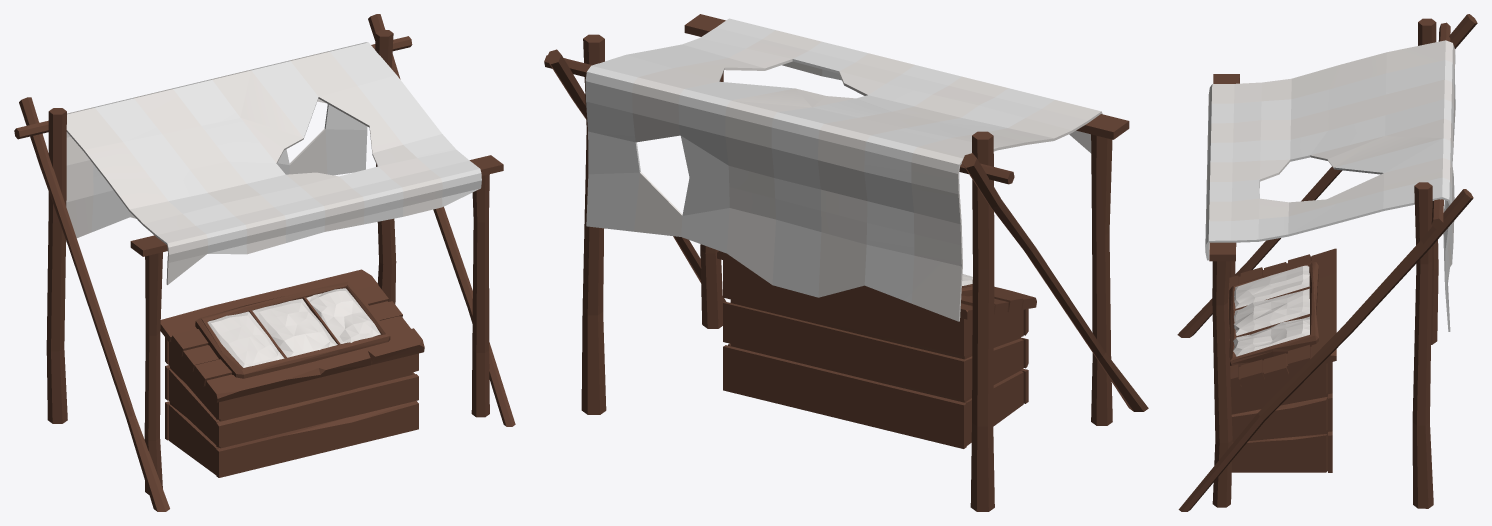
The model's file is Stall_2.fbx.
3 renders of one model, left to right at view 1: azimuth 30°, elevation 25°; view 2: azimuth 150°, elevation 25°; view 3: azimuth 270°, elevation 25°, orthographic. The views are drawn at different scales.
Parts seen in each view (by area): view 1: Stall_2; view 2: Stall_2; view 3: Stall_2.
Boxes of the visible parts, x1=… form: Stall_2: x1=14, y1=14, x2=515, y2=511; Stall_2: x1=544, y1=14, x2=1148, y2=511; Stall_2: x1=1177, y1=14, x2=1477, y2=511.
Size of the model in its own units: 3.9 by 2.99 by 2.53.
